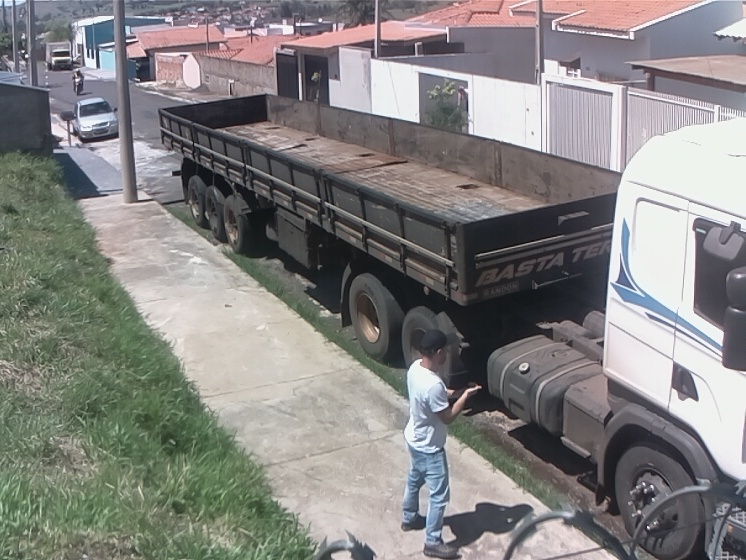person: (397, 328, 486, 560)
